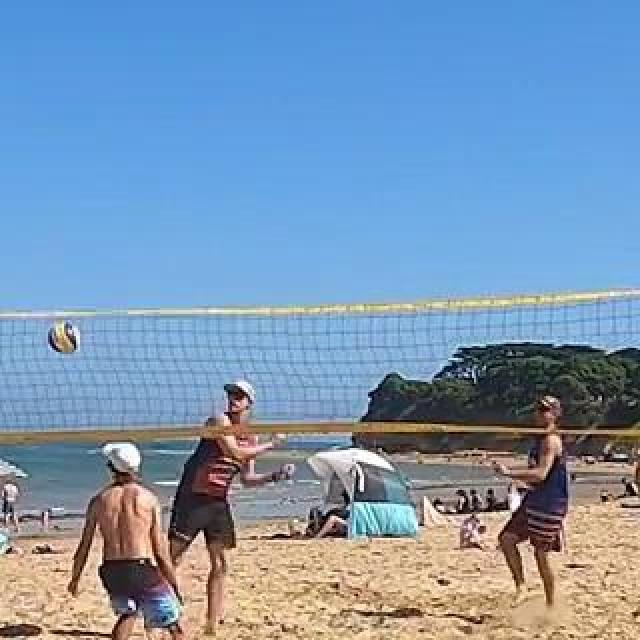volleyball: (49, 323, 81, 355)
